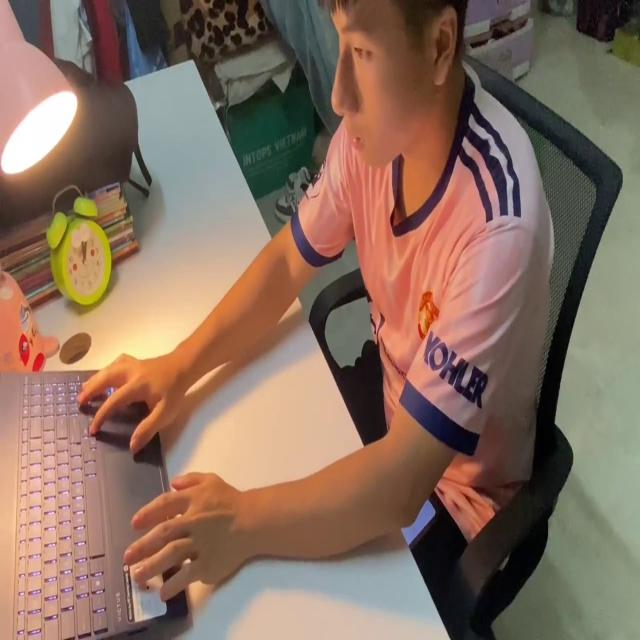laptop: (3, 359, 190, 640)
student: (78, 0, 557, 589)
